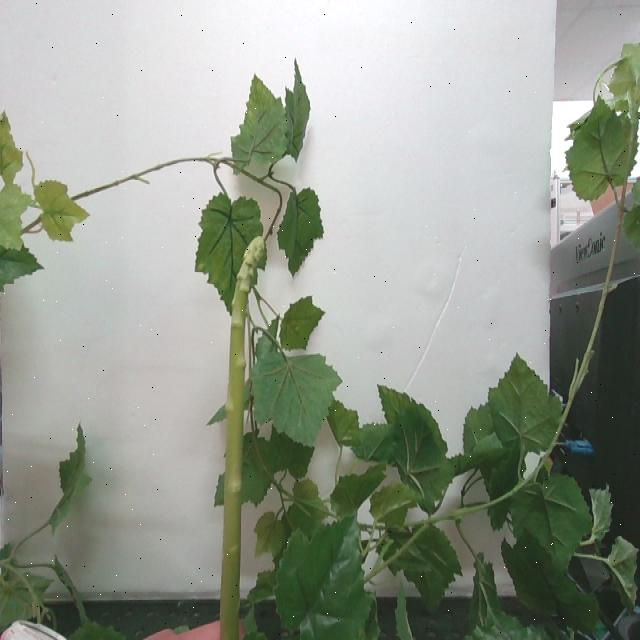aspargus: (219, 234, 265, 640)
